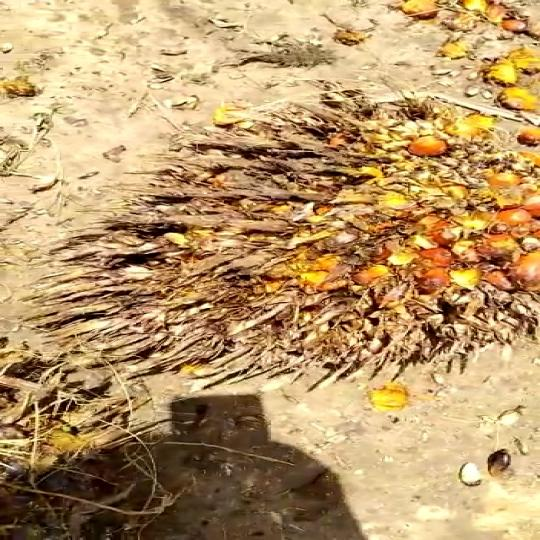terlalu masak: (27, 80, 540, 389)
